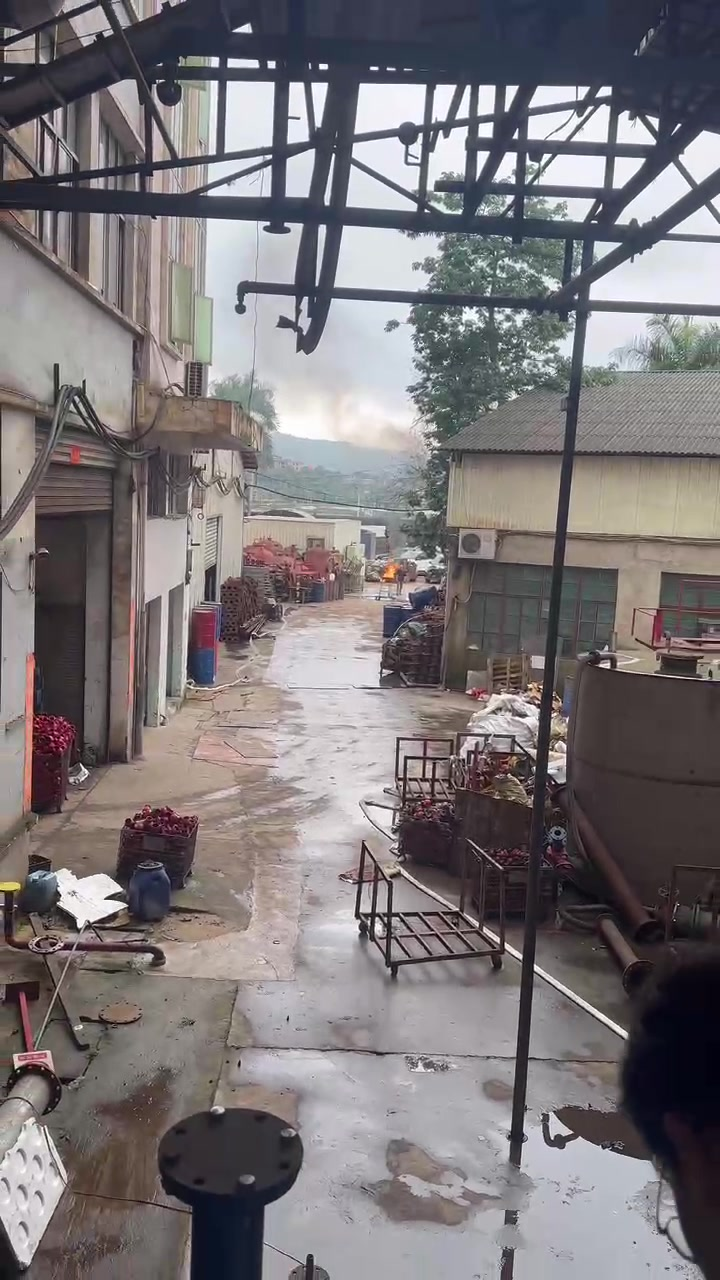fire: (382, 563, 393, 576)
